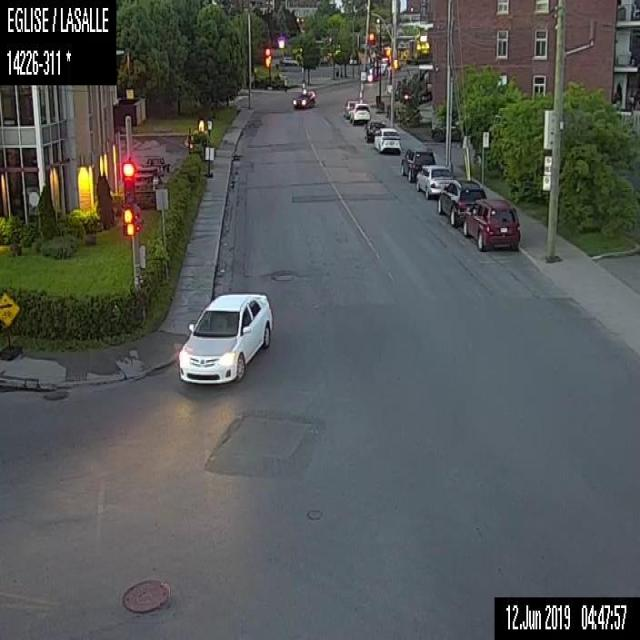vehicle: (177, 290, 272, 386), (462, 197, 520, 252), (436, 176, 486, 229), (399, 144, 436, 182), (412, 162, 452, 196), (372, 126, 400, 154), (364, 117, 386, 141), (291, 88, 315, 109), (349, 102, 370, 124)
